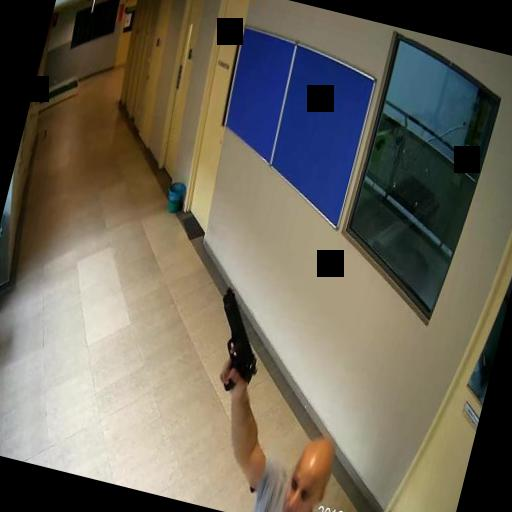Handgun: (200, 286, 274, 394)
